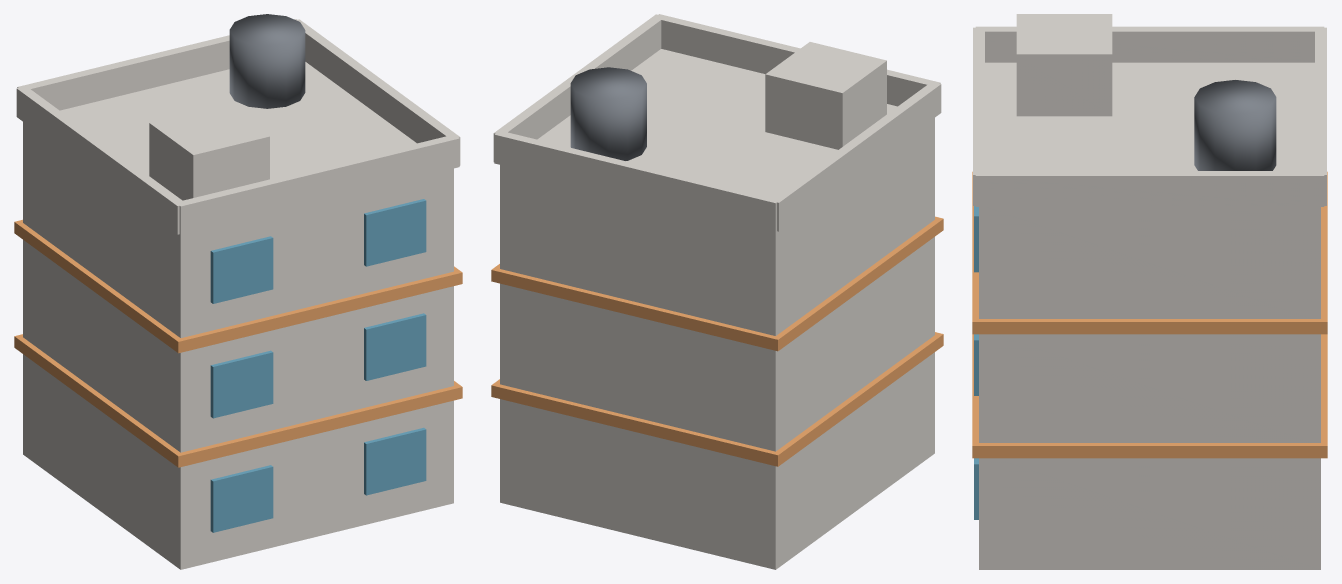
Rendered from building_tactical_townhouse.glb.
3 views of the same model, side by side, from view 1: azimuth 30°, elevation 25°; view 2: azimuth 150°, elevation 25°; view 3: azimuth 270°, elevation 25° (orthographic). The views are drawn at different scales.
Parts seen in each view (by area): view 1: th_f3, th_f1, th_f2, th_parapet_f, th_shed, th_band1, th_band2, th_tank, th_parapet_b, th_parapet_l, th_parapet_r, th_win_1_1 (+5 smaller); view 2: th_f3, th_f1, th_f2, th_shed, th_parapet_b, th_band1, th_band2, th_tank, th_parapet_l, th_parapet_f, th_parapet_r; view 3: th_f3, th_f1, th_f2, th_parapet_r, th_shed, th_parapet_l, th_tank, th_band2, th_band1, th_parapet_f, th_parapet_b.
Boxes of the visible parts, x1,y1,x2,y2 form: th_f3: (23, 62, 453, 337); th_f1: (23, 354, 453, 569); th_f2: (23, 240, 453, 452); th_parapet_f: (176, 135, 459, 234); th_shed: (149, 104, 269, 200); th_band1: (14, 334, 462, 467); th_band2: (14, 219, 462, 353); th_tank: (229, 14, 305, 108); th_parapet_b: (17, 19, 301, 110); th_parapet_l: (16, 86, 186, 234); th_parapet_r: (297, 19, 460, 165); th_win_1_1: (210, 350, 273, 418); th_f3: (500, 49, 934, 335); th_f1: (500, 352, 934, 569); th_f2: (500, 237, 934, 451); th_shed: (765, 42, 886, 149); th_parapet_b: (494, 130, 780, 231); th_band1: (491, 332, 943, 466); th_band2: (491, 216, 943, 351); th_tank: (570, 67, 646, 160); th_parapet_l: (772, 82, 941, 231); th_parapet_f: (654, 14, 940, 106); th_parapet_r: (493, 14, 664, 161); th_f3: (979, 62, 1320, 318); th_f1: (979, 458, 1320, 569); th_f2: (979, 334, 1320, 442); th_parapet_r: (975, 171, 1324, 206); th_shed: (1016, 14, 1112, 116); th_parapet_l: (975, 26, 1324, 62); th_tank: (1194, 80, 1276, 170); th_band2: (972, 171, 1327, 334); th_band1: (972, 334, 1327, 458); th_parapet_f: (973, 27, 984, 205); th_parapet_b: (1315, 27, 1326, 205).
Bounding box in the file's own units: 10.4 × 14.1 × 10.4.
